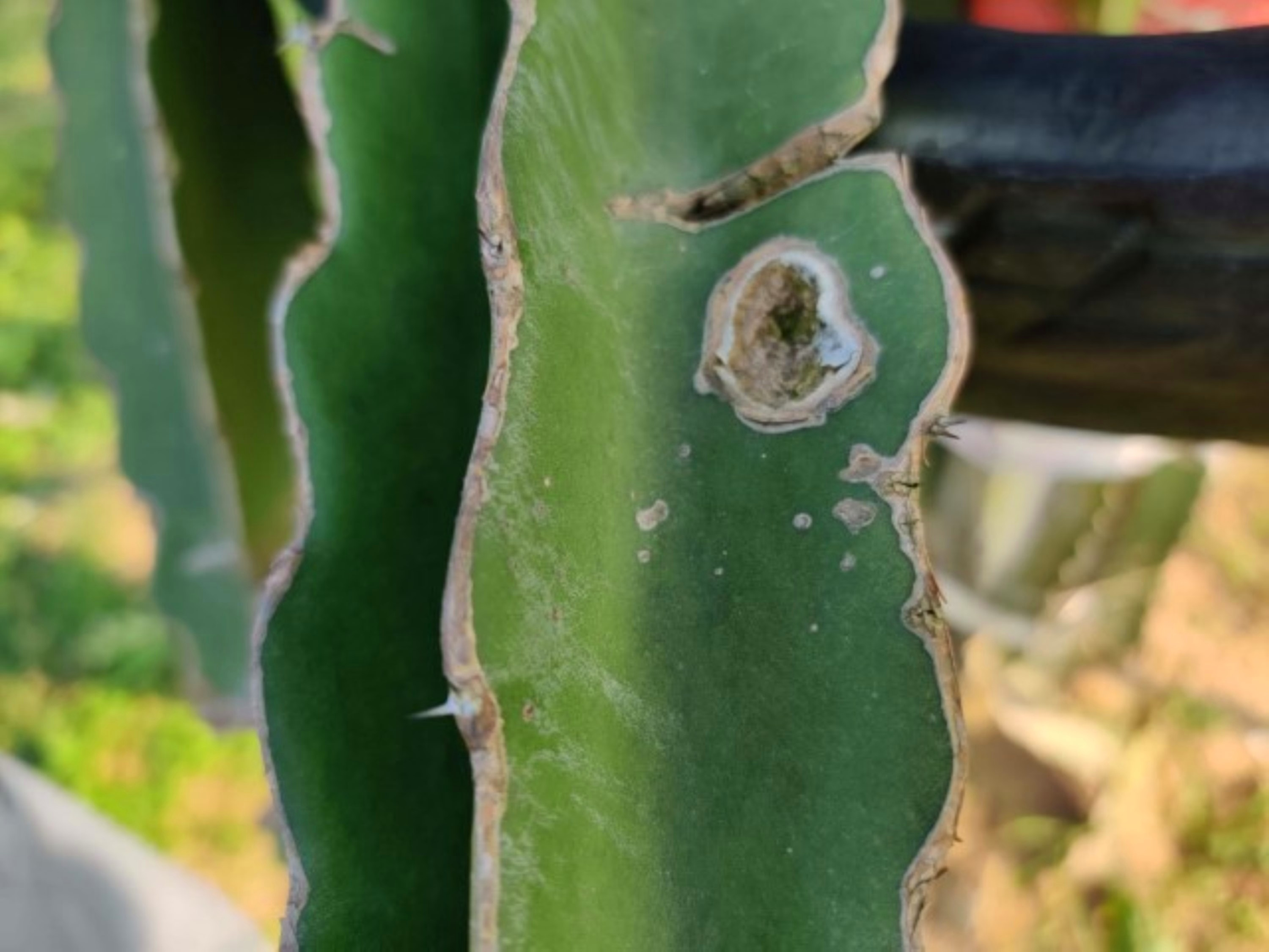stemcanker: (565, 8, 1167, 768)
